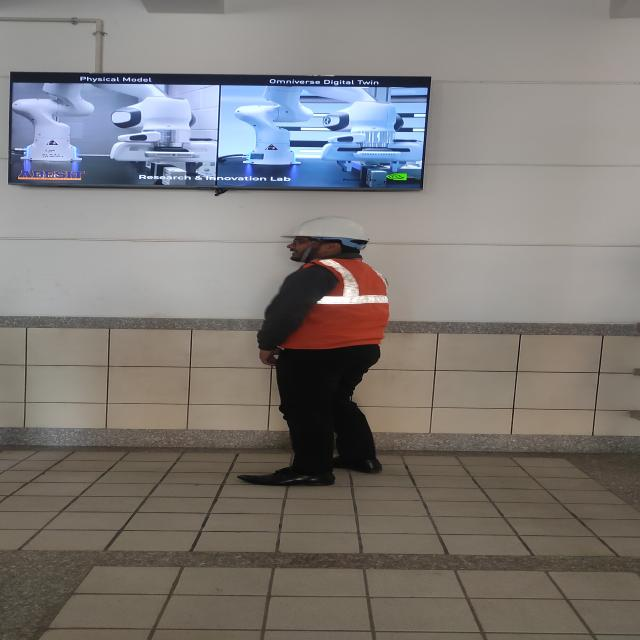safe: (257, 216, 389, 485)
